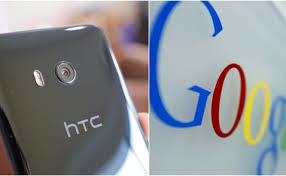htc: (1, 18, 149, 176)
